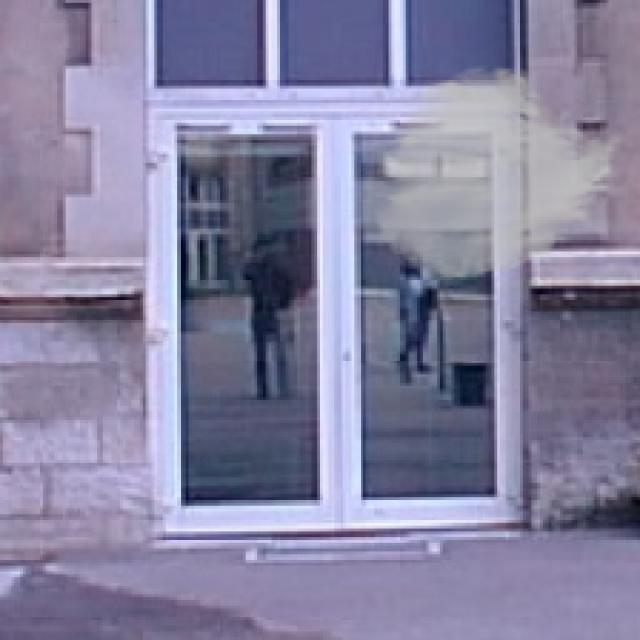Smoke: (372, 63, 632, 283)
